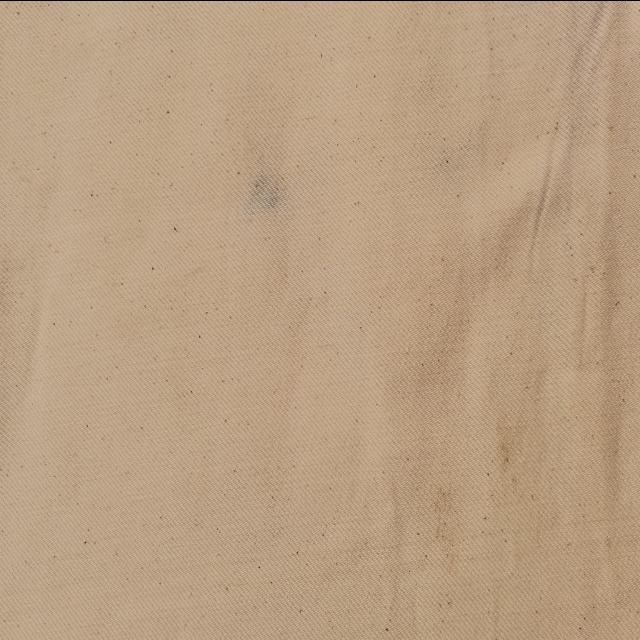taaaches: (235, 123, 297, 234), (418, 456, 466, 564), (486, 432, 516, 482)
